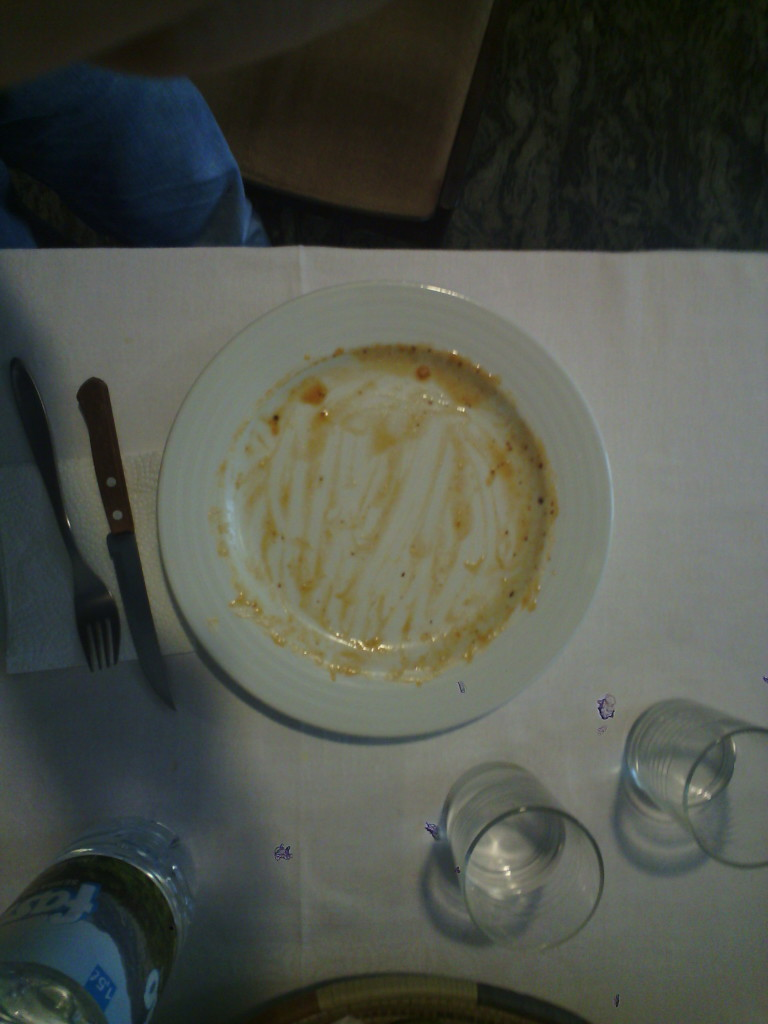0-20: (154, 285, 615, 743)
